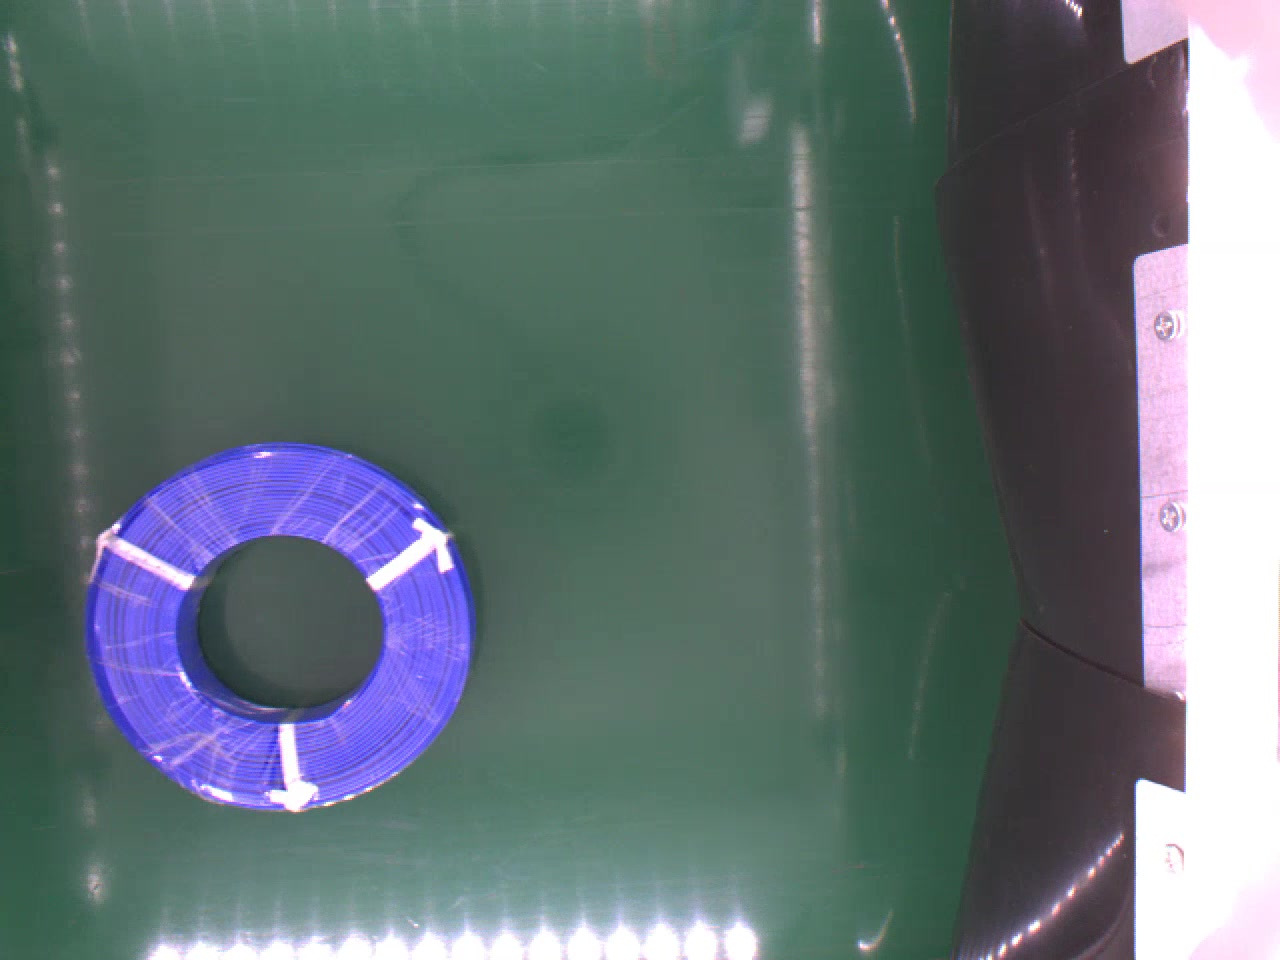blue: (84, 437, 471, 808)
